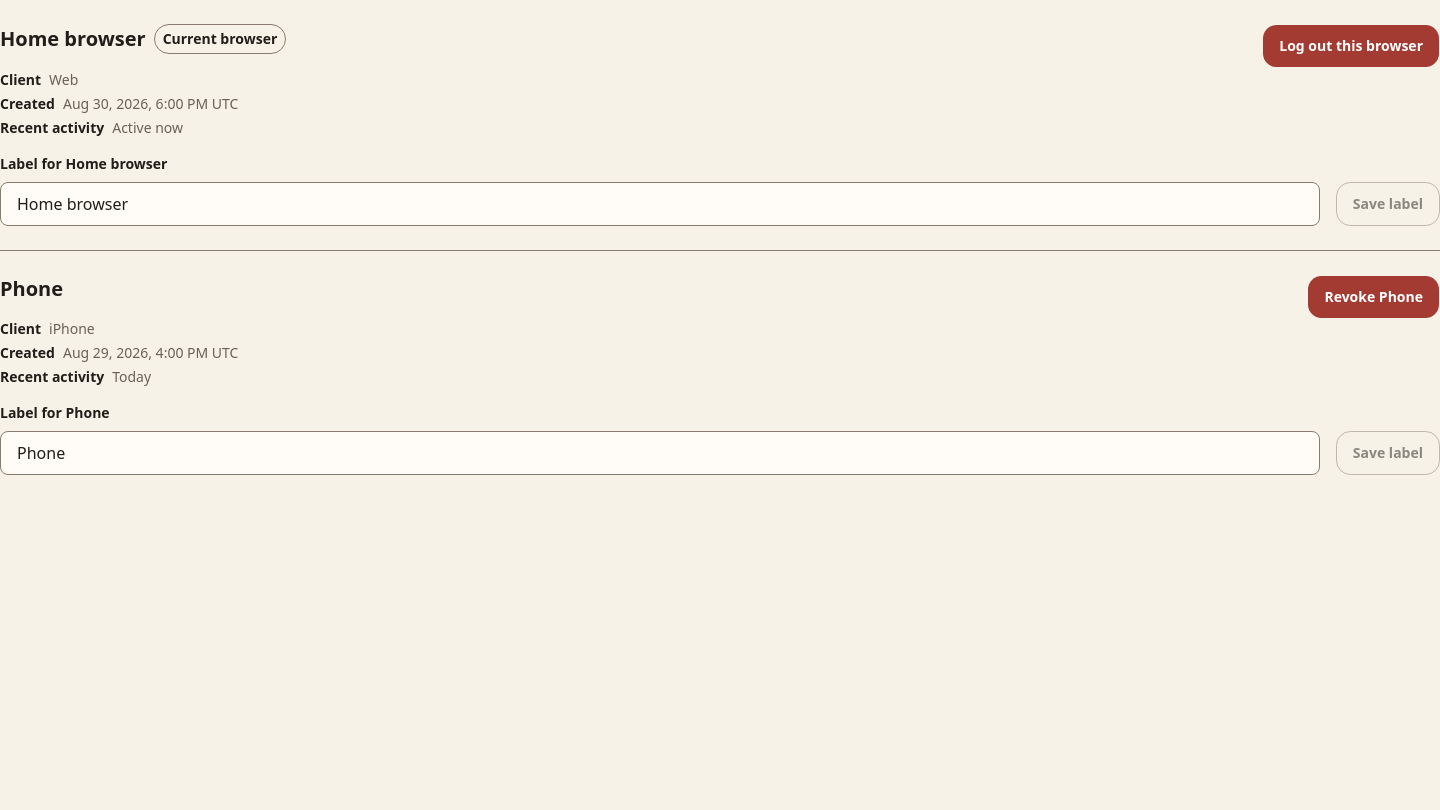
it: uncertain session administration › proves an after-commit revocation from absence without retrying DELETE
Click the button "Revoke Phone": [1374, 297] box [1307, 275, 1439, 319]
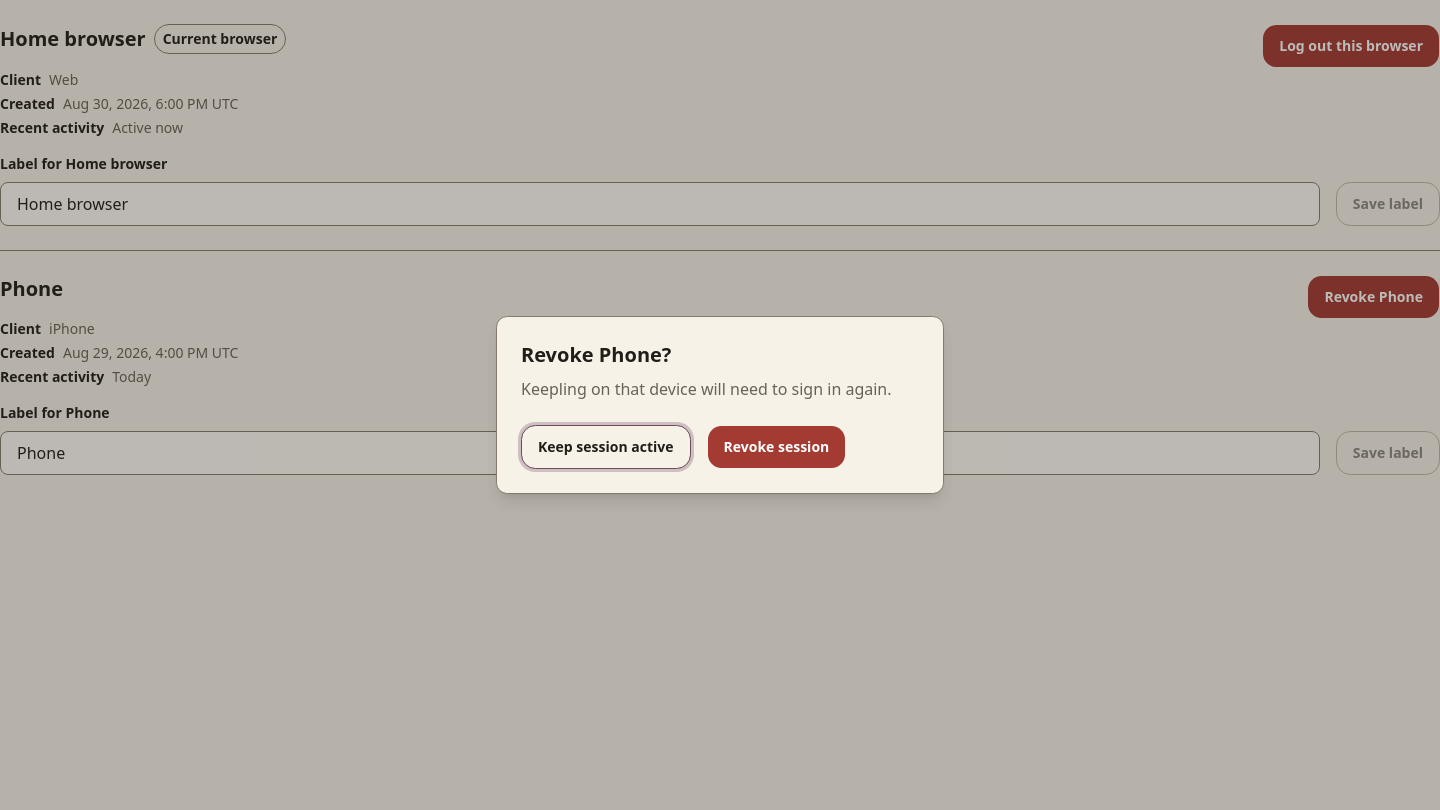
Click the button "Revoke session": [776, 447] box [706, 425, 846, 469]
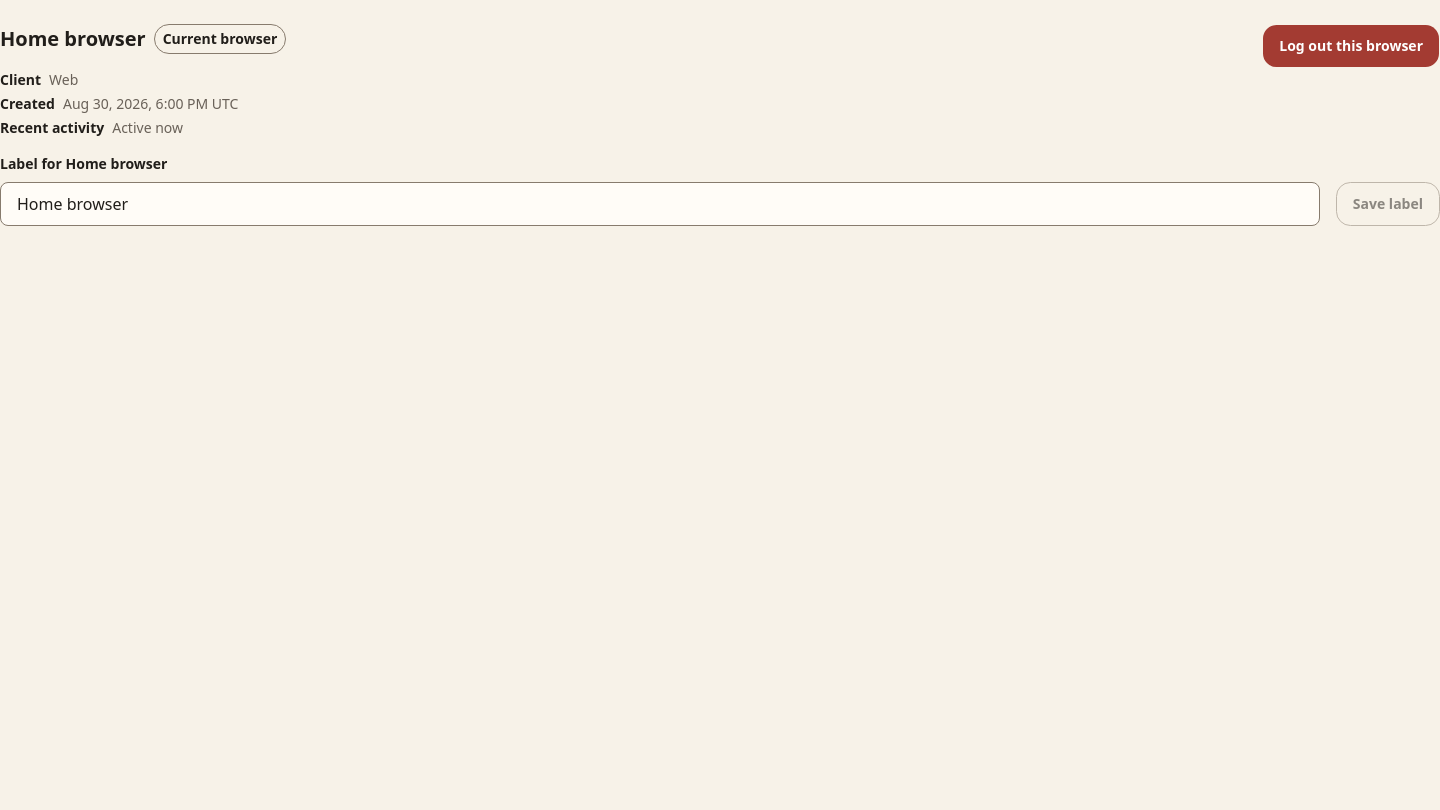
Expected: the label labelled "Label for Phone" is gone
